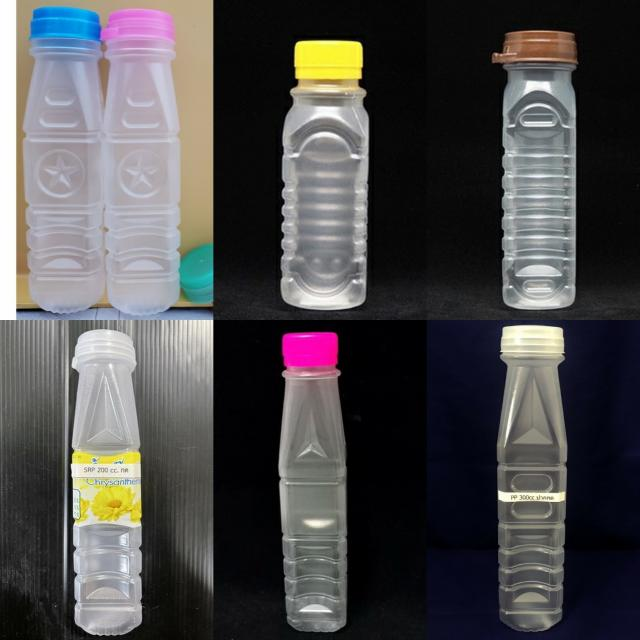Single-Use-Plastic: (24, 6, 105, 313), (101, 9, 180, 315), (492, 30, 578, 310), (280, 40, 369, 310), (71, 329, 142, 635), (498, 325, 568, 630), (279, 333, 348, 631)
